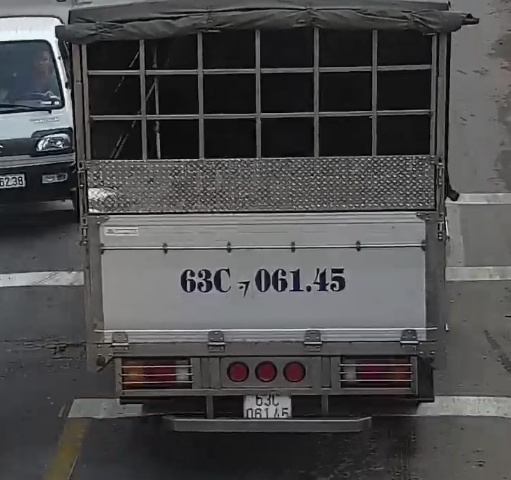vehicle plate: (242, 387, 298, 423)
